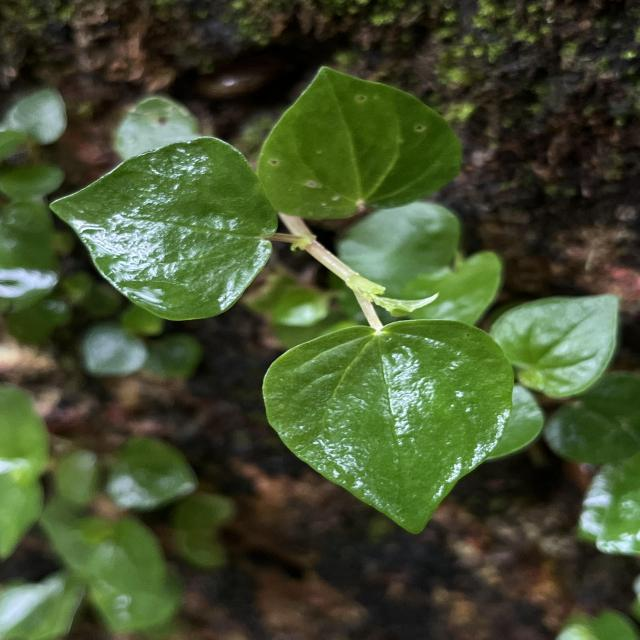Peperomia pellucida: (257, 315, 518, 540), (44, 128, 282, 328)
